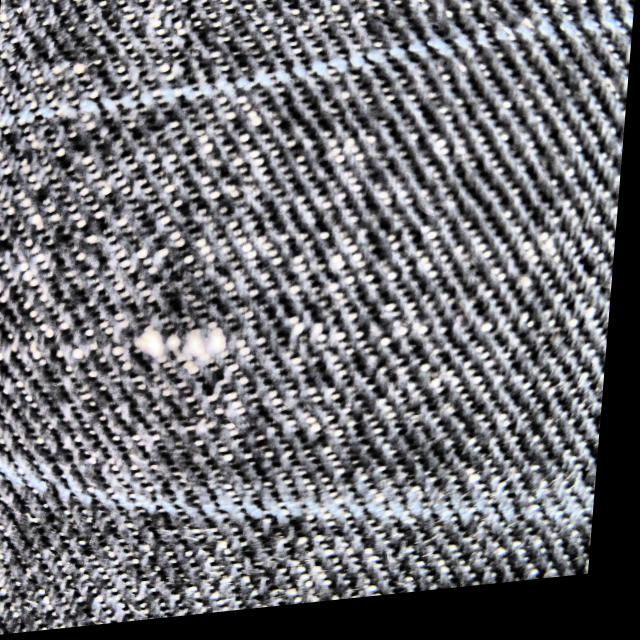Hole: (134, 326, 243, 371)
